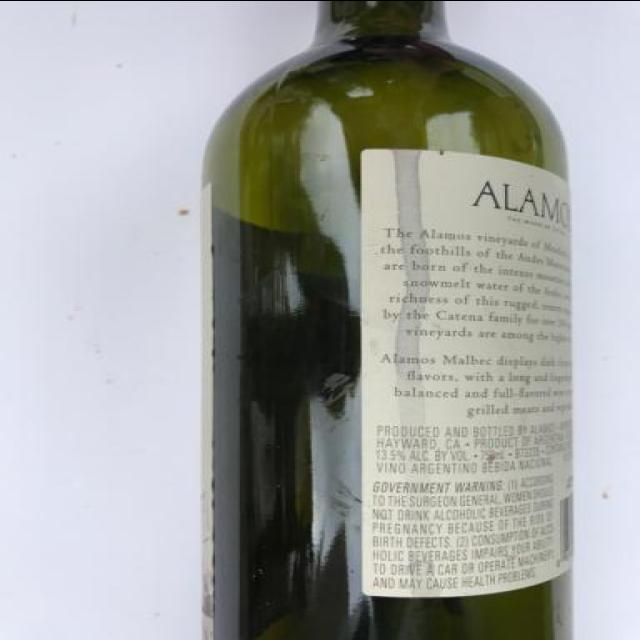litter: (195, 5, 577, 640)
